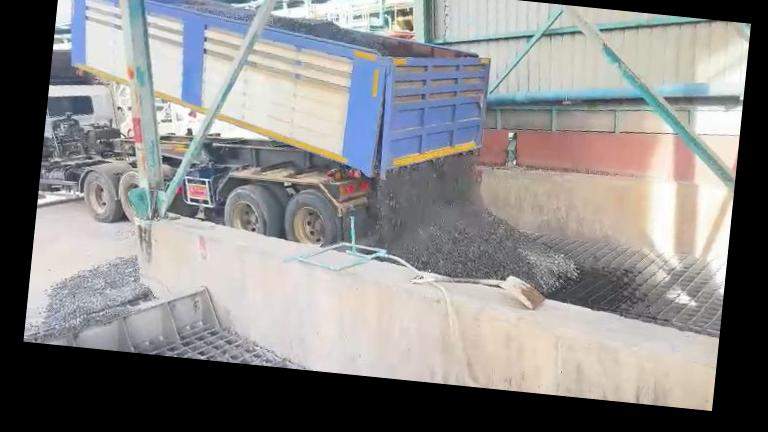gravel: (377, 157, 579, 294), (29, 257, 153, 338), (267, 15, 390, 55), (182, 0, 255, 23)
